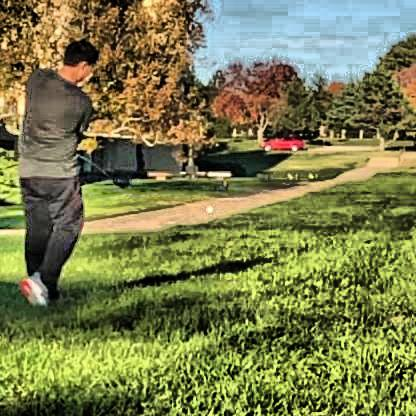golfball: (203, 202, 211, 212)
